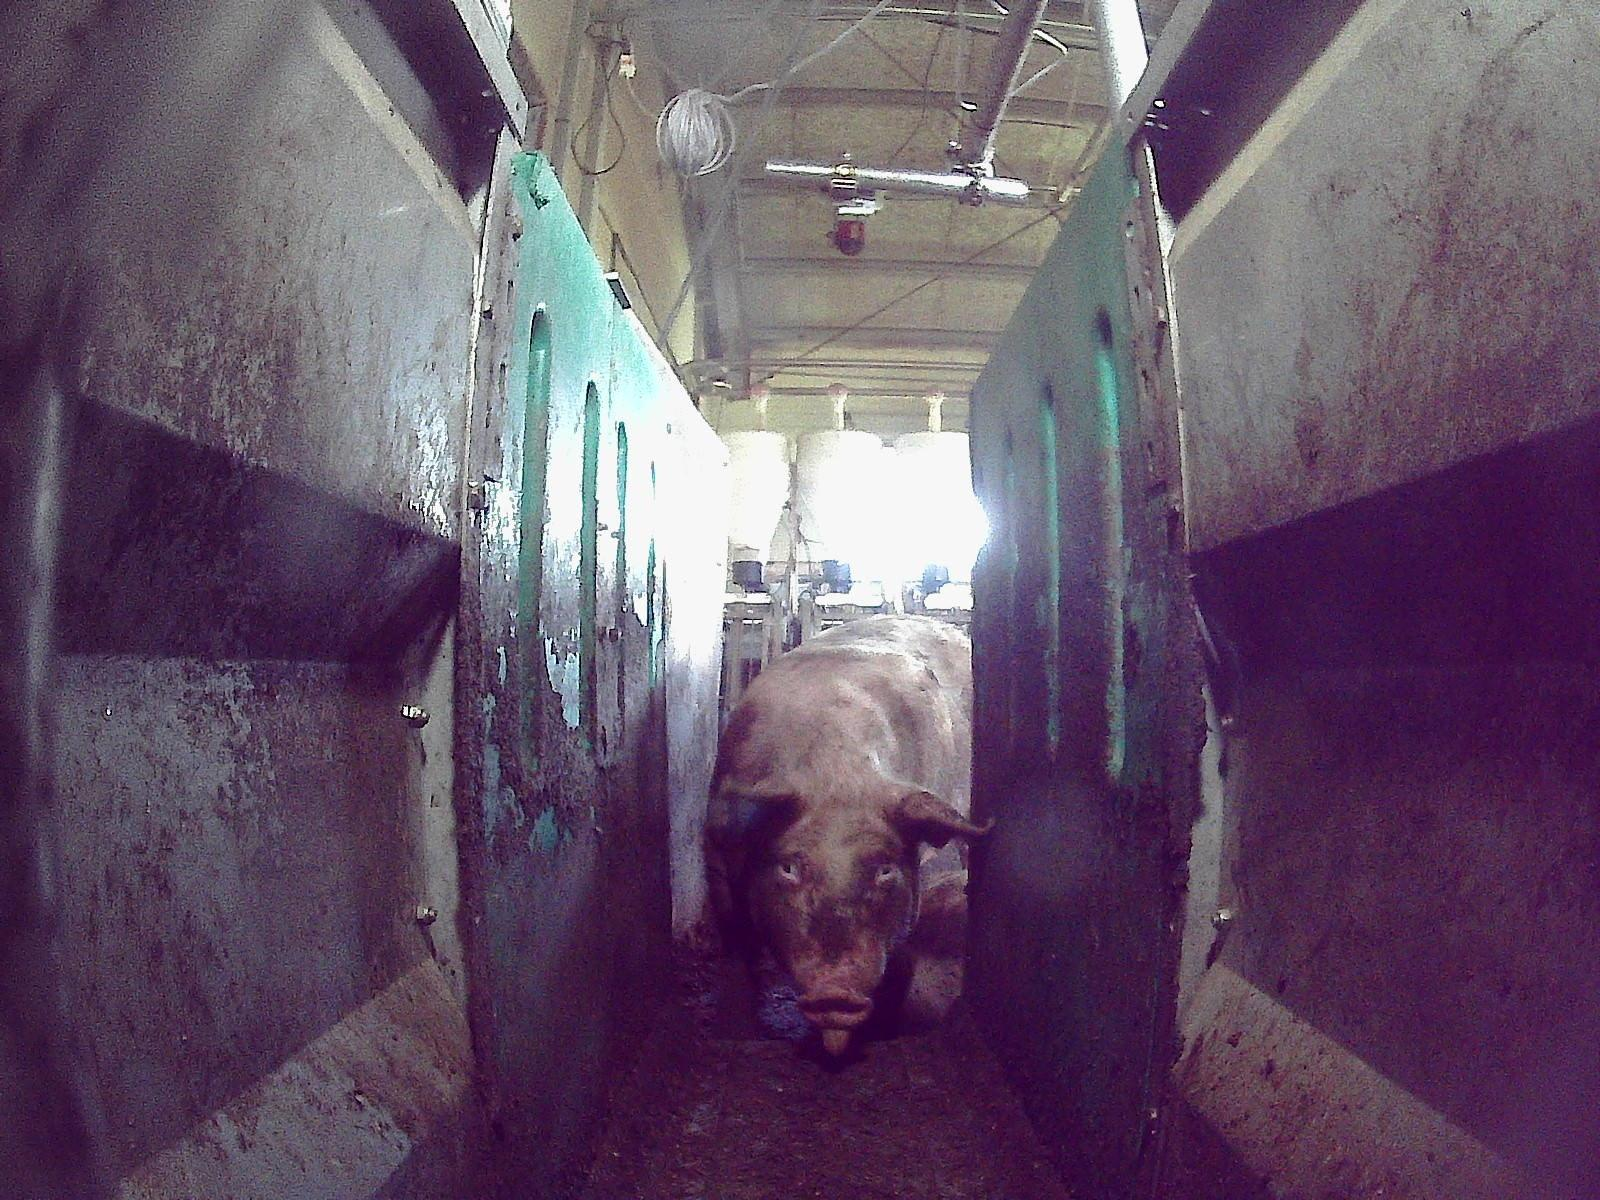Face: (747, 775, 917, 1029)
